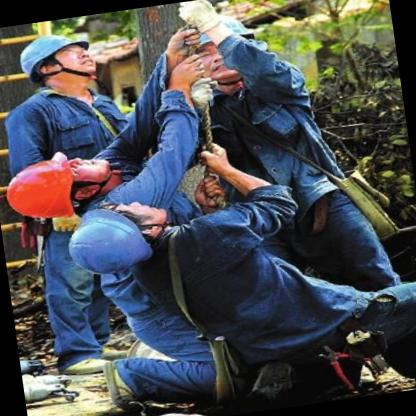helmet: (59, 193, 189, 278), (161, 2, 278, 90), (0, 147, 132, 224), (9, 24, 107, 93)
